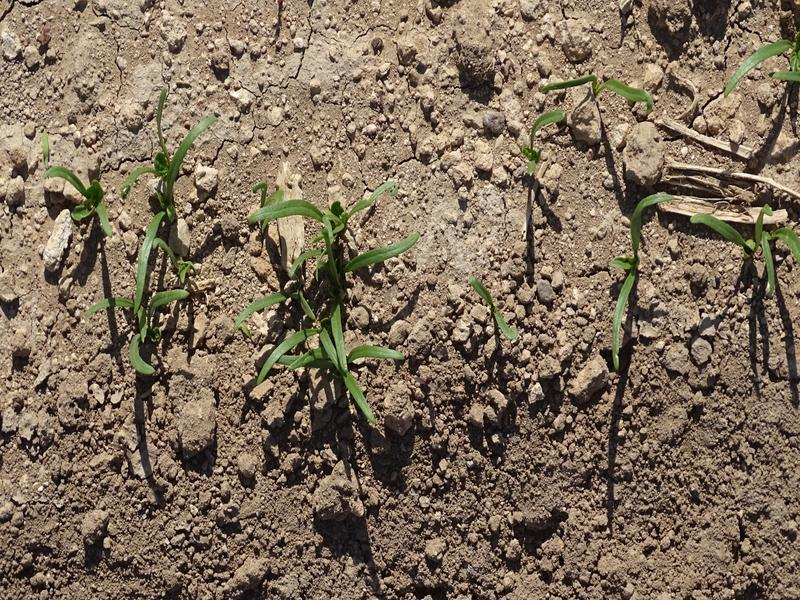Espinaca: (255, 172, 403, 422), (116, 106, 214, 379), (611, 192, 672, 368), (698, 206, 797, 290), (536, 61, 655, 109), (50, 163, 112, 232), (721, 38, 798, 87), (527, 110, 574, 175)
